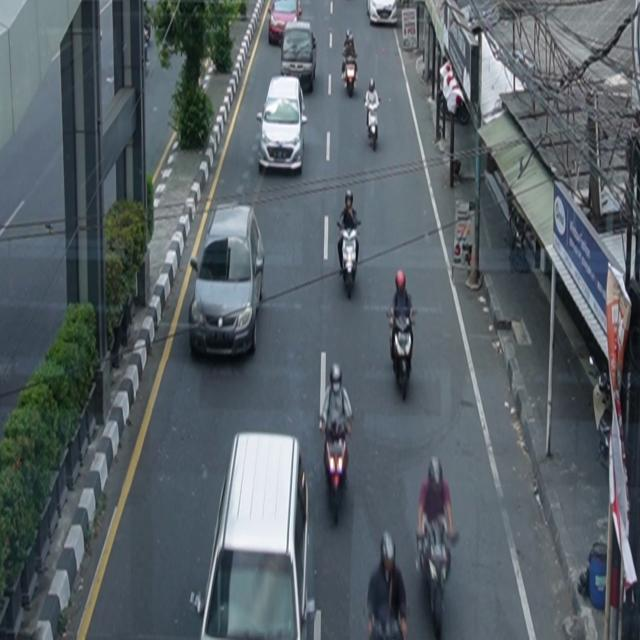car: (194, 432, 319, 640), (189, 203, 266, 360), (257, 75, 308, 175), (281, 22, 318, 93), (269, 1, 303, 46), (367, 1, 398, 26)
